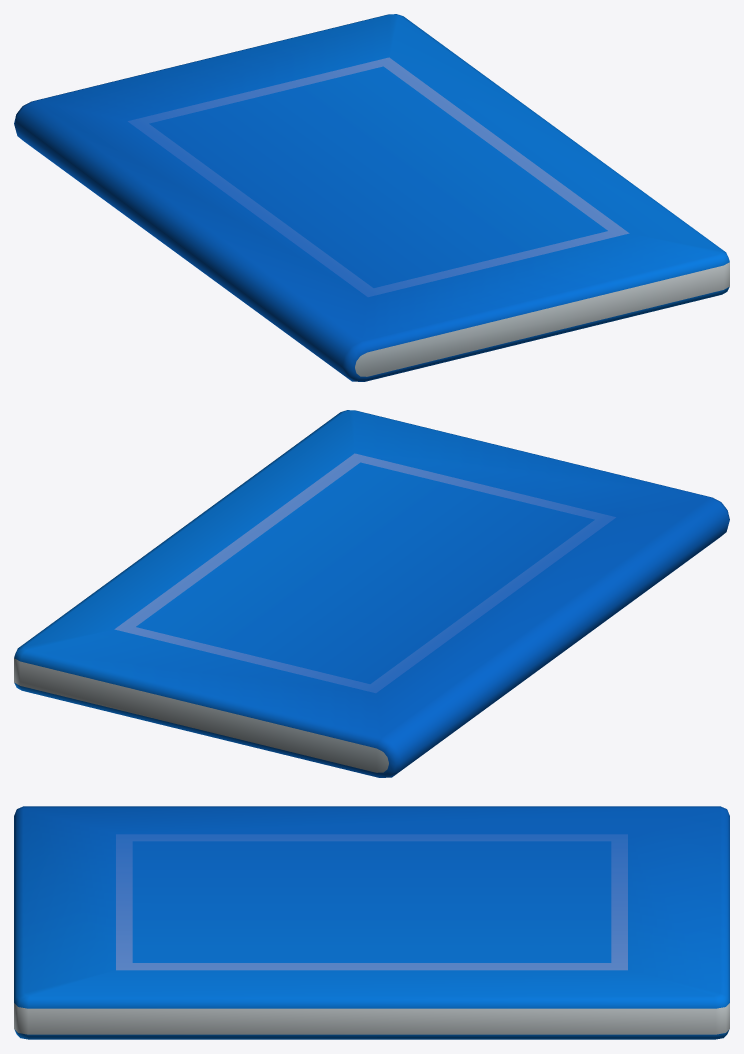
File: Magazine_001.fbx
The picture shows the model from 3 angles, top to bottom: view 1: azimuth 30°, elevation 25°; view 2: azimuth 150°, elevation 25°; view 3: azimuth 270°, elevation 25°; orthographic projection. The views are drawn at different scales.
Parts seen in each view (by area): view 1: Magazine_001; view 2: Magazine_001; view 3: Magazine_001.
Boxes of the visible parts, x1,y1,x2,y2 form: Magazine_001: (14, 14, 729, 381); Magazine_001: (14, 410, 729, 777); Magazine_001: (14, 806, 729, 1039).
Bounding box in the file's own units: 20 × 30 × 2.
